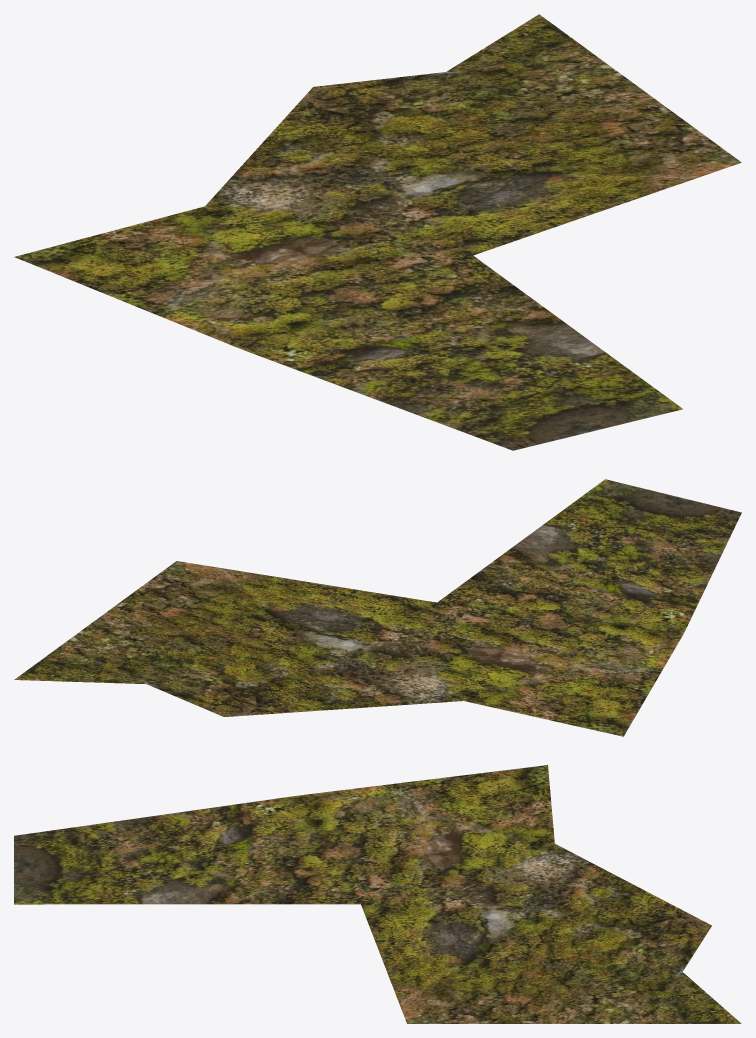
File: moss_float05.dae
The picture shows the model from 3 angles, top to bottom: view 1: azimuth 30°, elevation 25°; view 2: azimuth 150°, elevation 25°; view 3: azimuth 270°, elevation 25°; orthographic projection. The views are drawn at different scales.
Parts seen in each view (by area): view 1: 05; view 2: 05; view 3: 05.
Boxes of the visible parts, x1=… form: 05: x1=14, y1=14, x2=741, y2=450; 05: x1=14, y1=479, x2=741, y2=736; 05: x1=14, y1=765, x2=741, y2=1023.
Bounding box in the file's own units: 2.1 × 0 × 2.49.
